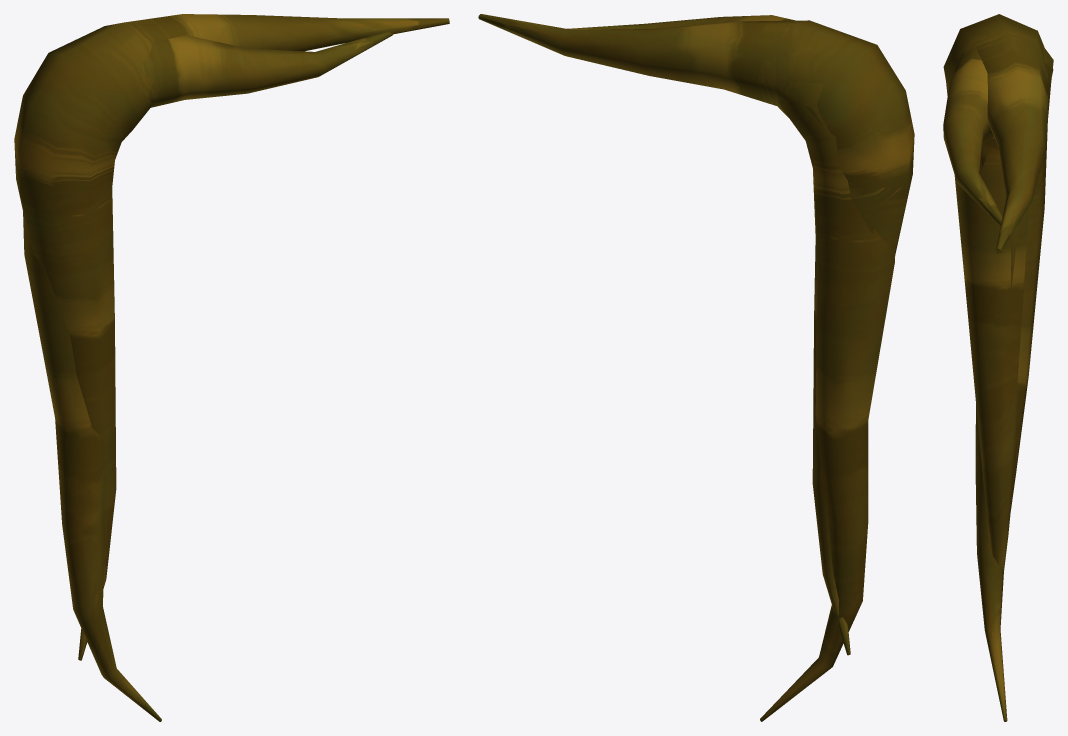
The model's file is SimpleVines.fbx.
3 views of the same model, side by side, from view 1: azimuth 30°, elevation 25°; view 2: azimuth 150°, elevation 25°; view 3: azimuth 270°, elevation 25° (orthographic). The views are drawn at different scales.
Parts seen in each view (by area): view 1: SimpleVine1, SimpleVine2; view 2: SimpleVine1, SimpleVine2; view 3: SimpleVine1, SimpleVine2.
Part boxes in pixels (<box>): SimpleVine1: <box>14,14,449,660</box>; SimpleVine2: <box>23,32,392,721</box>; SimpleVine1: <box>478,14,914,655</box>; SimpleVine2: <box>567,15,895,721</box>; SimpleVine1: <box>943,14,1053,571</box>; SimpleVine2: <box>943,44,1053,721</box>.
Bounding box in the file's own units: 11.52 × 2.69 × 18.12.
